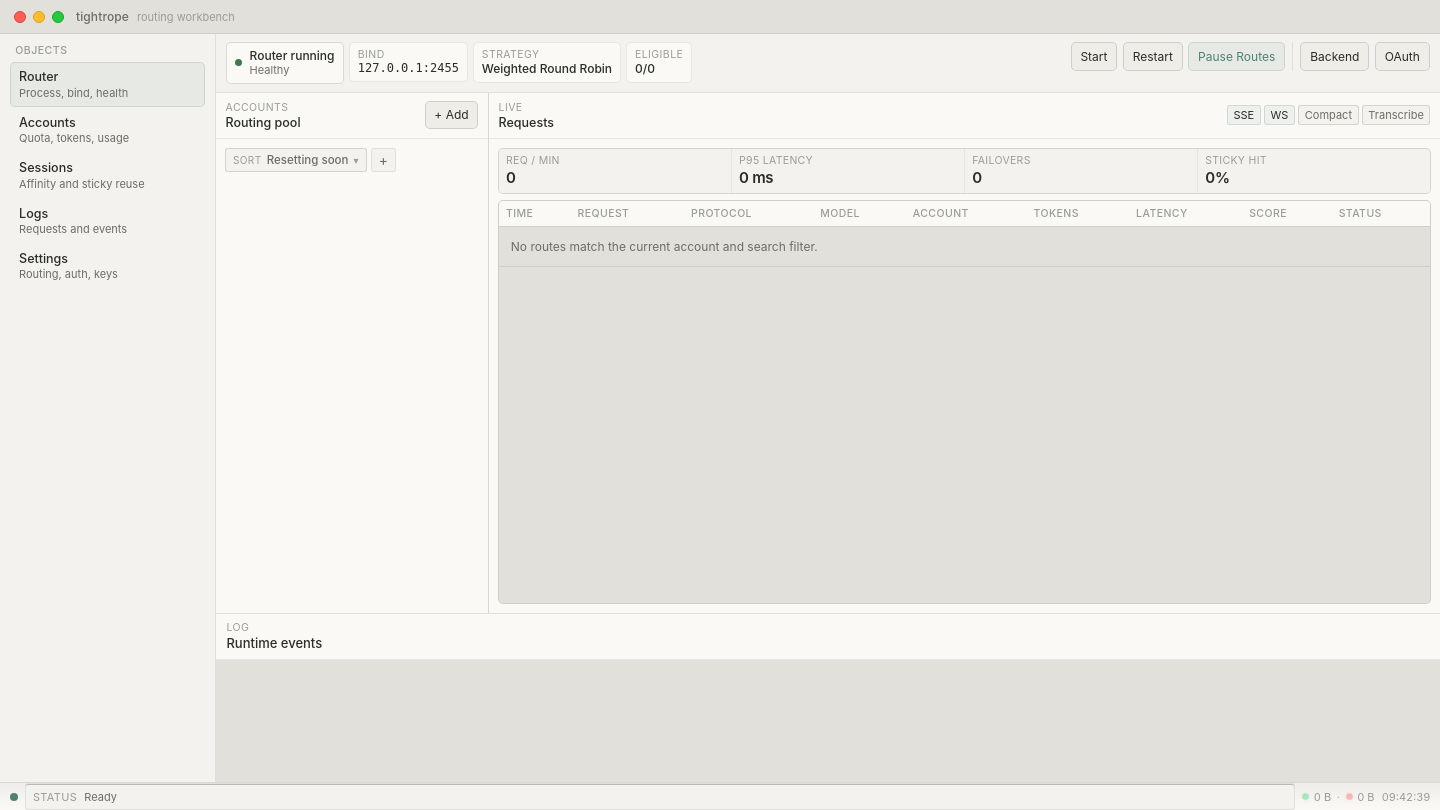
Test case: App › keeps sync settings stable when cluster status payload is partial
What coordinates should you click on to do the following:
click the button "Settings Routing, auth, keys"
I would click on:
 (108, 266)
Its box is [10,244,205,288].
(page scrolled)
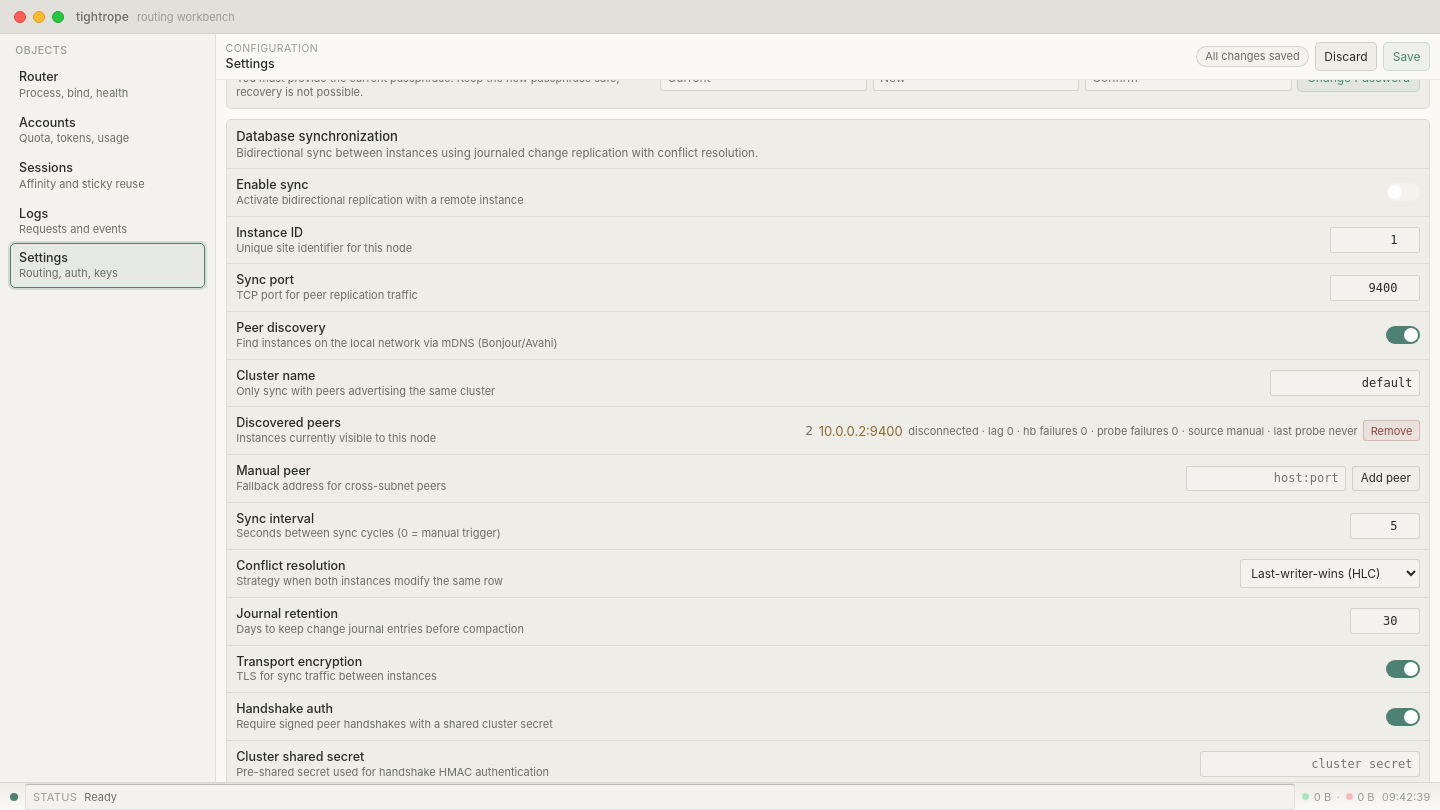
Result: the heading "Database synchronization" is shown at [236,128,398,144]
Result: the text "10.0.0.2:9400" is shown at [819,423,903,439]
Result: the text "disconnected · lag 0" is shown at [908,424,1358,438]
